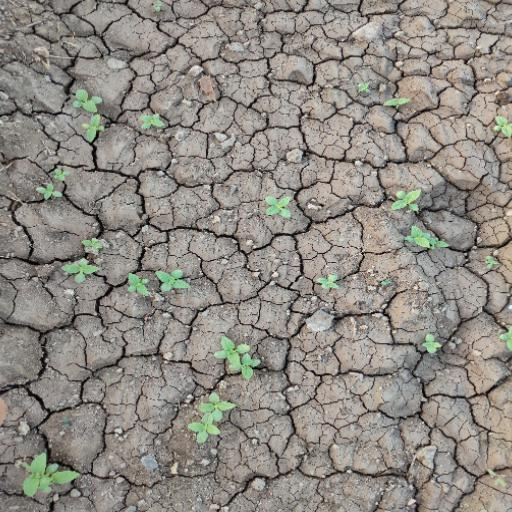crop: (16, 448, 82, 500), (211, 336, 266, 384), (401, 223, 450, 256), (57, 255, 105, 288), (32, 168, 69, 207), (195, 388, 235, 422), (256, 193, 306, 220), (388, 185, 427, 215), (184, 415, 219, 448), (120, 269, 153, 300), (69, 89, 107, 114), (79, 229, 114, 256), (156, 267, 190, 293), (134, 103, 164, 132), (488, 107, 511, 142), (382, 91, 414, 116), (419, 326, 442, 360), (77, 115, 106, 141), (313, 270, 342, 293)
